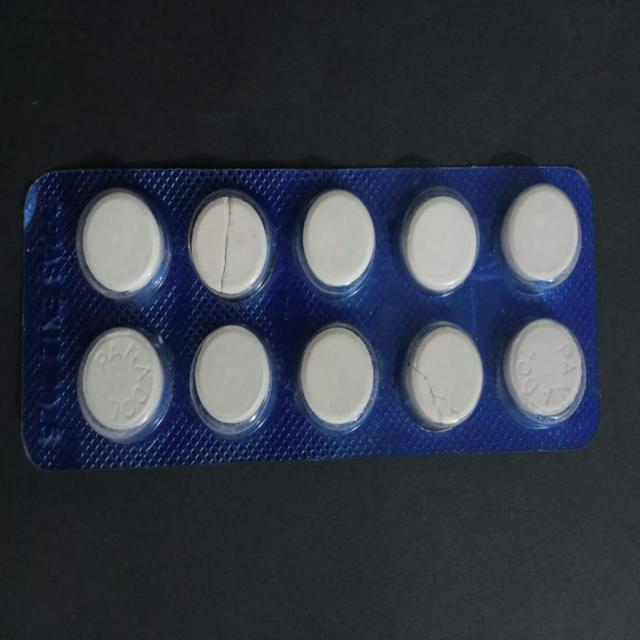defect: (187, 186, 279, 303), (400, 318, 486, 434)
